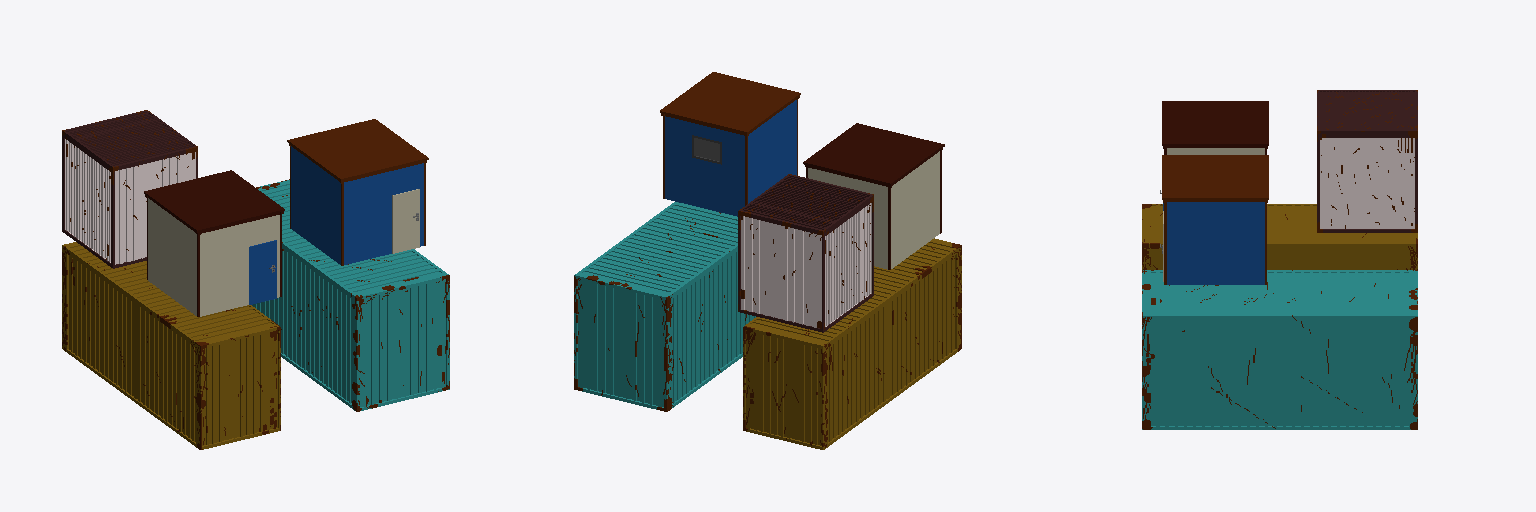
The picture shows the model from 3 angles: view 1: azimuth 30°, elevation 25°; view 2: azimuth 150°, elevation 25°; view 3: azimuth 270°, elevation 25°; orthographic projection.
Parts seen in each view (by area): view 1: object 1; view 2: object 1; view 3: object 1.
Part boxes in pixels (bbox=[...]): object 1: bbox=[62, 110, 449, 449]; object 1: bbox=[574, 72, 961, 449]; object 1: bbox=[1142, 90, 1417, 429].
Size of the model in its own units: 25.5 by 22.2 by 24.5.
Materials: 1 (1 with a texture image).